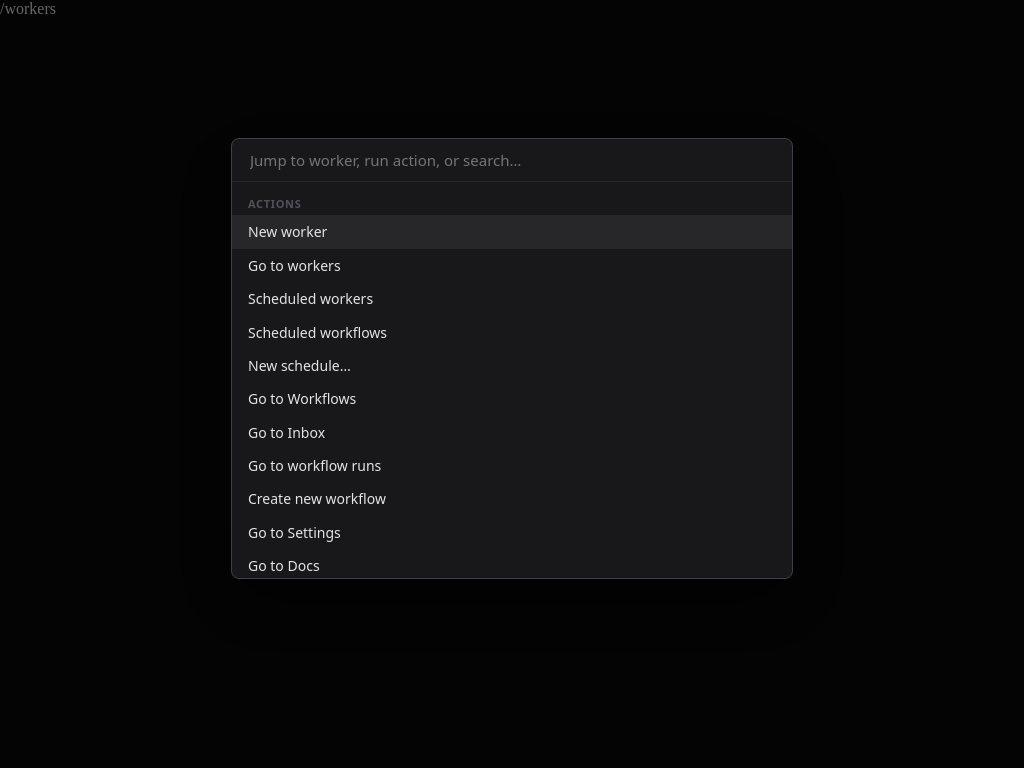
CommandPalette schedule entries › New schedule asks for the target before navigating
Check: the text "Schedule a worker" is not shown
Click the option "New schedule…".
click(299, 365)  # box [248, 356, 351, 375]
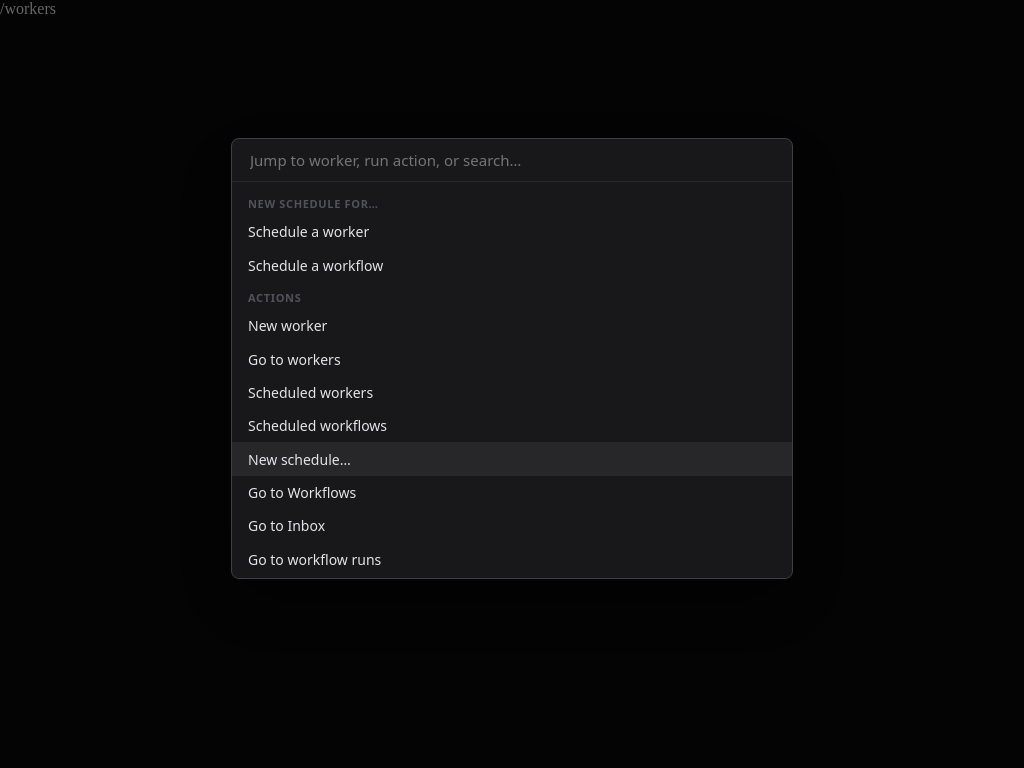
Click the option "Schedule a workflow".
click(316, 265)  # box [248, 256, 383, 275]
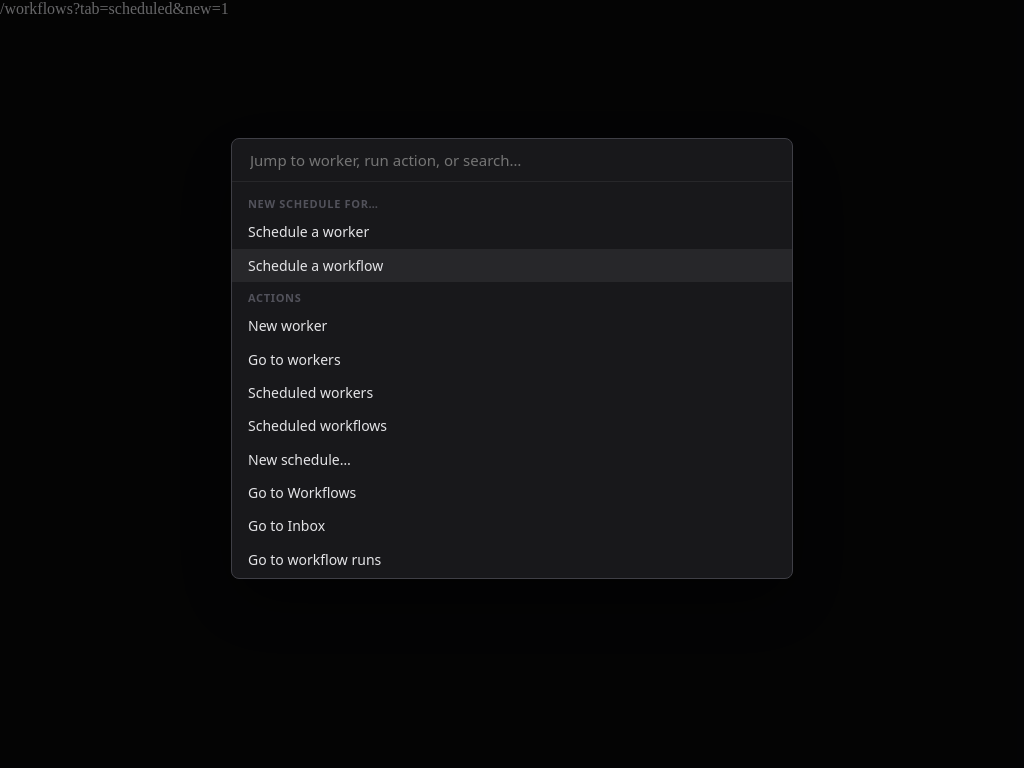
Check: the text with test id "location" reads "/workflows?tab=scheduled&new=1", box [0, 0, 229, 17]
